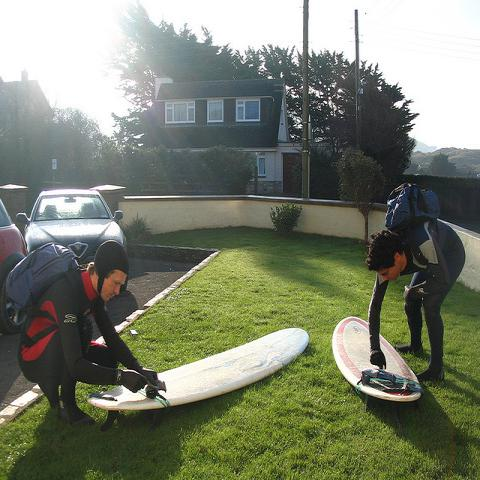car: (17, 182, 125, 271), (0, 197, 27, 335)
